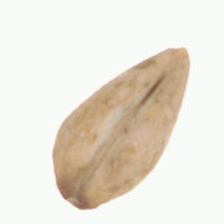L1: (59, 190, 99, 211), (161, 46, 191, 67)
L2: (52, 47, 190, 210)
